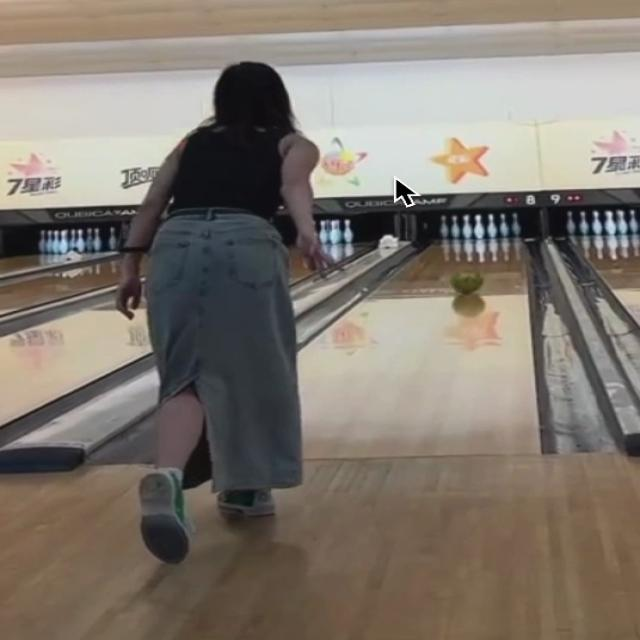alley: (300, 237, 539, 460)
balls: (450, 273, 482, 297)
bottle: (441, 212, 518, 239)
